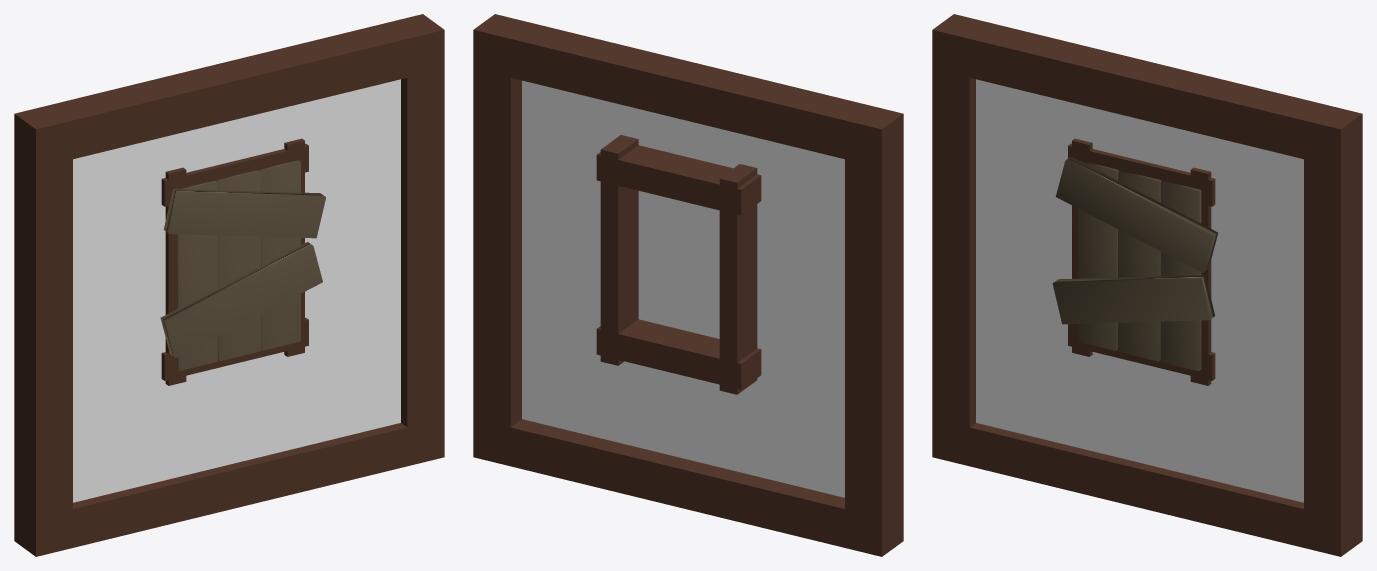
File: barikatlipencere.fbx
The picture shows the model from 3 angles, left to right: view 1: azimuth 30°, elevation 25°; view 2: azimuth 150°, elevation 25°; view 3: azimuth 330°, elevation 25°; orthographic projection.
Visible parts, largest first — view 1: Plane.044, Plane.041, Cube.007; view 2: Plane.044, Plane.041; view 3: Plane.044, Plane.041, Cube.007.
Boxes of the visible parts, x1,y1,x2,y2 form: Plane.044: (14, 14, 444, 556); Plane.041: (73, 79, 400, 502); Cube.007: (160, 160, 325, 370); Plane.044: (473, 14, 903, 556); Plane.041: (522, 80, 844, 497); Plane.044: (932, 14, 1362, 556); Plane.041: (976, 79, 1303, 502); Cube.007: (1052, 156, 1217, 371).
Bounding box in the file's own units: 2.86 × 2.86 × 0.4283.
